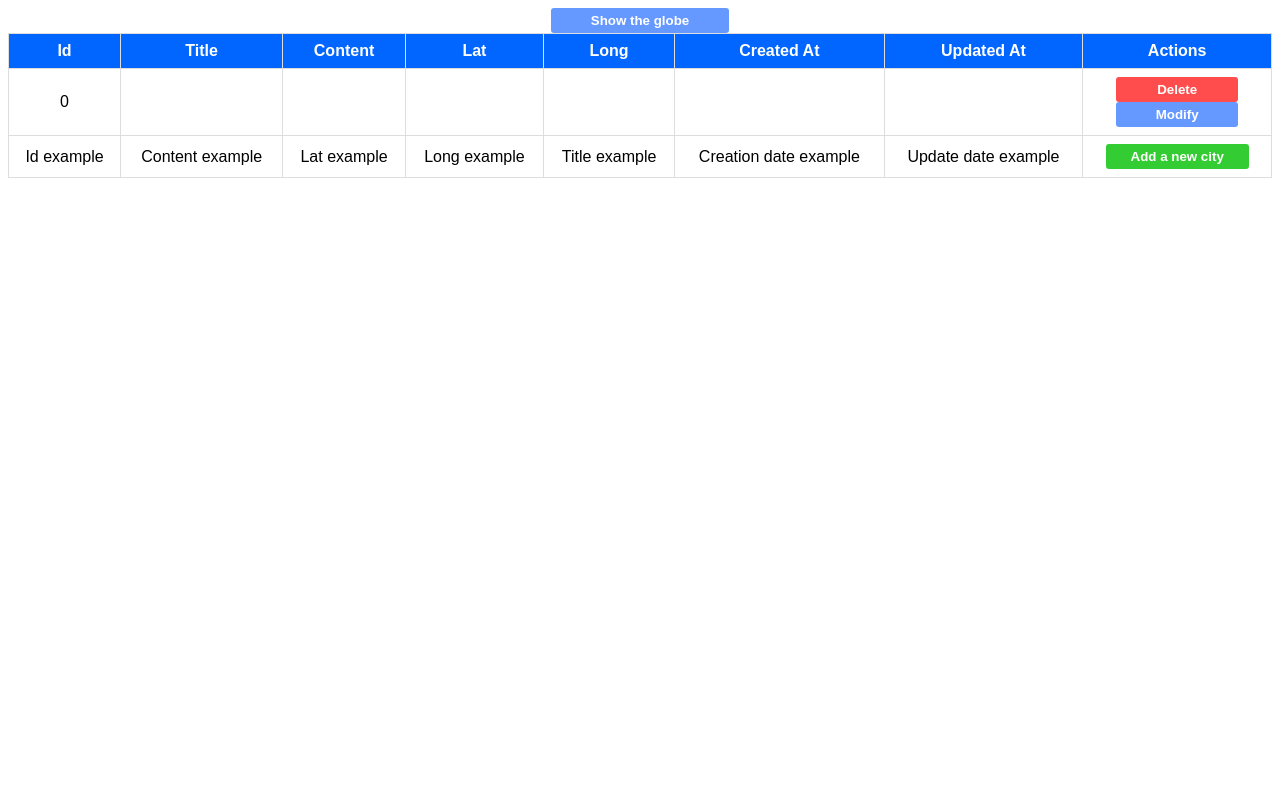
Test: Click button should open modal › If click button "Modify" opens the modal
Click the button with test id "button-modify-city" at (1177, 114), box x1=1116 y1=102 x2=1238 y2=127
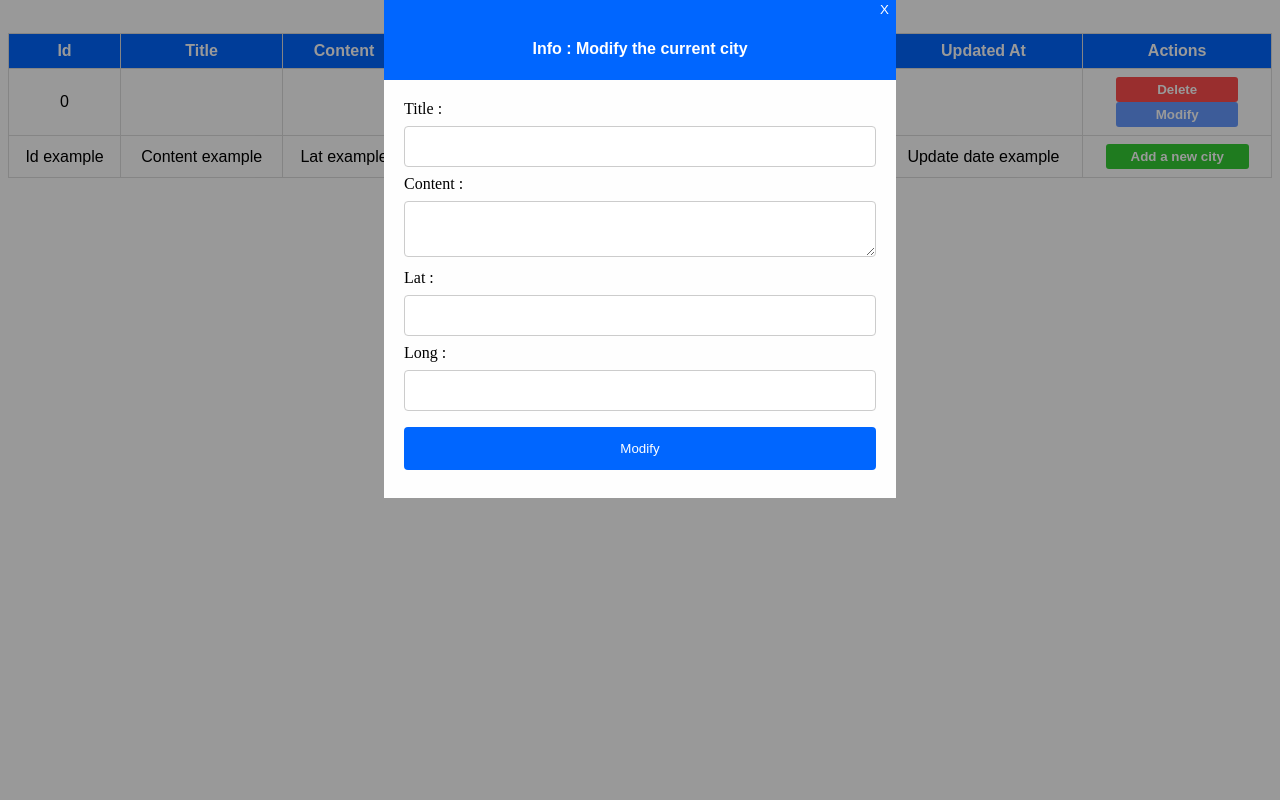
Check: the heading "Info : Modify the current city" is shown, box x1=532 y1=40 x2=748 y2=58
